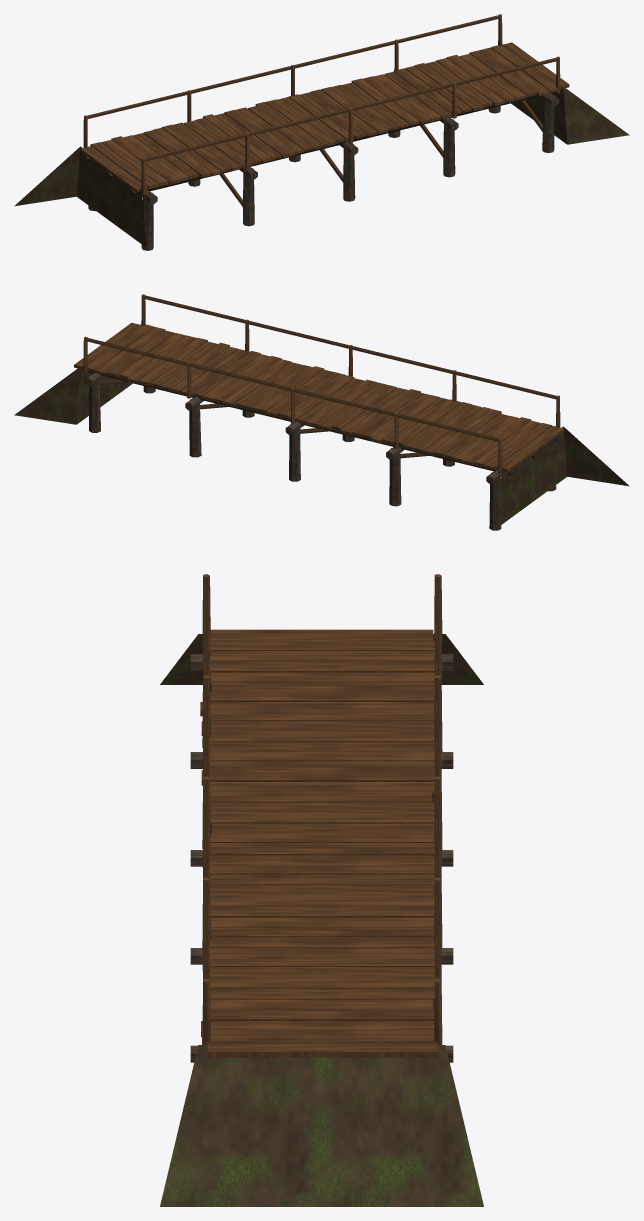
Rendered from ponte.glb.
3 renders of one model, top to bottom at view 1: azimuth 30°, elevation 25°; view 2: azimuth 150°, elevation 25°; view 3: azimuth 270°, elevation 25°, orthographic. The views are drawn at different scales.
Visible parts, largest first — view 1: ponte; view 2: ponte; view 3: ponte.
Boxes of the visible parts, box(x1,y1,x2,y2) form: ponte: box(14, 14, 629, 250); ponte: box(14, 294, 629, 530); ponte: box(160, 574, 483, 1206).
Bounding box in the file's own units: 16 × 2.65 × 4.2.
4 materials, 4 textured.
